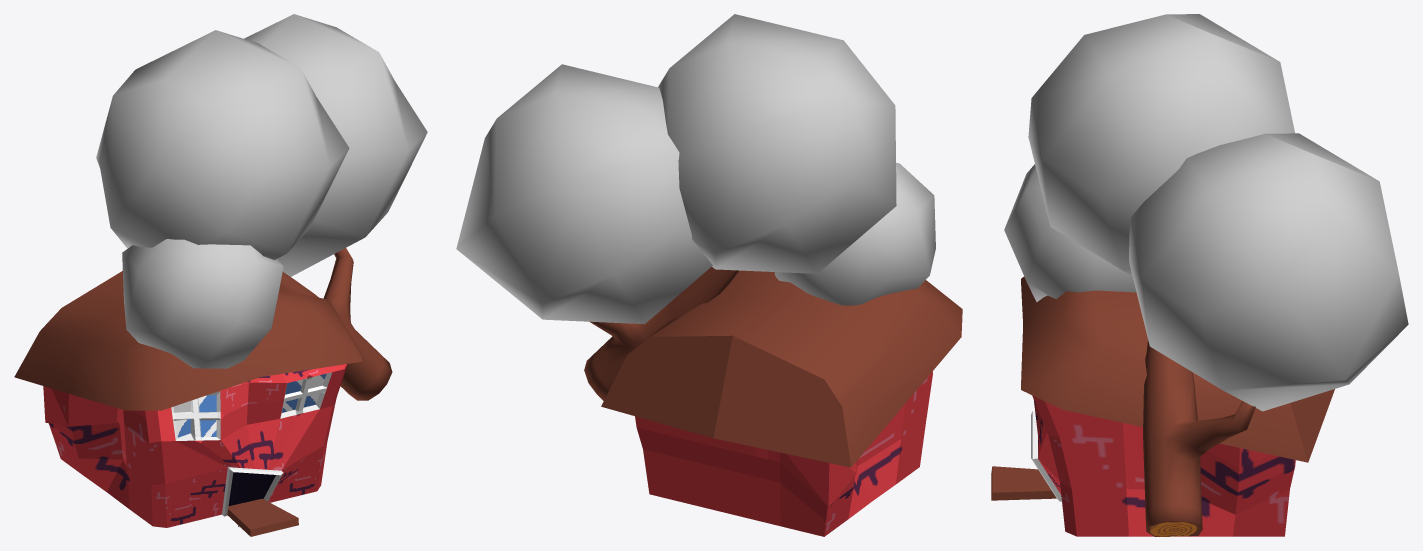
Rendered from hausdestroyed.fbx.
3 views of the same model, side by side, from view 1: azimuth 30°, elevation 25°; view 2: azimuth 150°, elevation 25°; view 3: azimuth 270°, elevation 25° (orthographic). The views are drawn at different scales.
Parts seen in each view (by area): view 1: Cube.003, House, Cube, Cube.002, Door; view 2: Cube.003, Cube, House, Cube.002; view 3: Cube.003, Cube, House, Cube.002, Door.
Boxes of the visible parts, <box> form: Cube.003: <box>96,14,427,368</box>; House: <box>43,364,347,527</box>; Cube: <box>14,271,362,410</box>; Cube.002: <box>279,248,392,400</box>; Door: <box>227,498,298,536</box>; Cube.003: <box>456,14,935,324</box>; Cube: <box>601,270,962,467</box>; House: <box>635,371,932,536</box>; Cube.002: <box>584,267,738,400</box>; Cube.003: <box>1004,14,1408,411</box>; Cube: <box>1021,276,1334,462</box>; House: <box>1031,395,1295,536</box>; Cube.002: <box>1143,340,1255,536</box>; Door: <box>991,466,1056,500</box>.
Bounding box in the file's own units: 2055 × 2263 × 1793.
